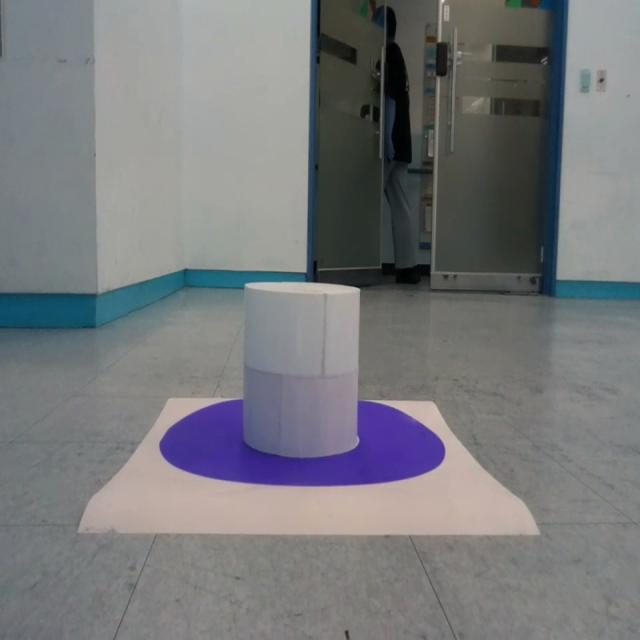cylinder: (241, 281, 360, 458)
